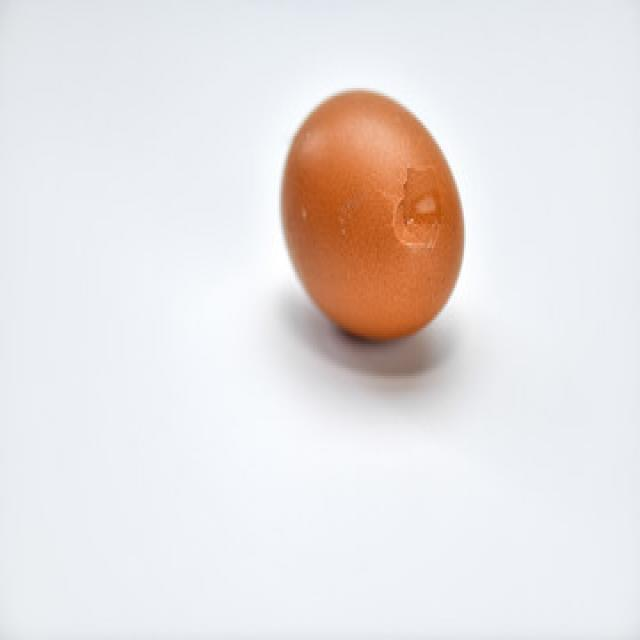biodegradable: (278, 82, 467, 347)
